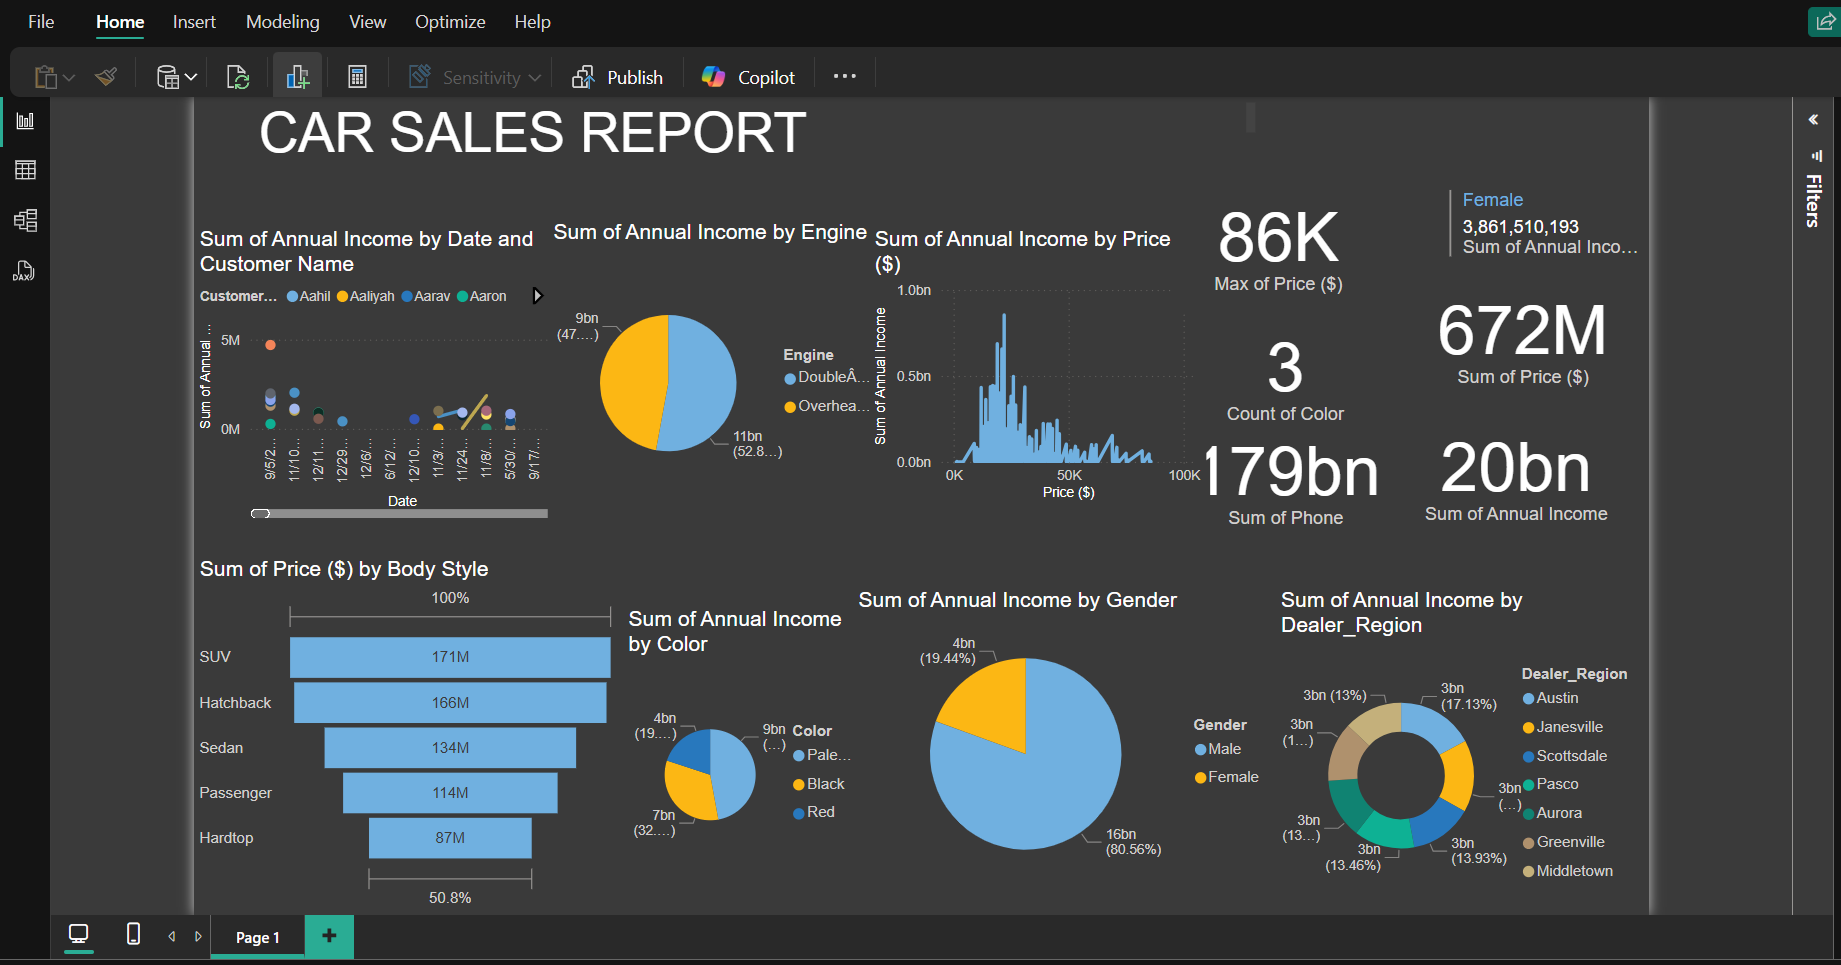

What the dashboard file says about the page in this screenshot:
{"tool":"powerbi","page":{"name":"Page 1","canvas":[1280,720],"ordinal":0},"visuals":[{"type":"donutChart","fields":{"Category":["new car dataseet.Dealer_Region"],"Y":["new car dataseet.Annual Income"]},"box":[950.9,431.9,328.8,288.3],"z":0},{"type":"funnel","fields":{"Category":["new car dataseet.Body Style"],"Y":["new car dataseet.Price ($)"]},"box":[0,404.9,376.7,315.3],"z":1000},{"type":"pieChart","fields":{"Category":["new car dataseet.Gender"],"Y":["new car dataseet.Annual Income"]},"box":[579.1,431.9,371.8,271.2],"z":2000},{"type":"lineChart","fields":{"Series":["new car dataseet.Customer Name"],"Category":["new car dataseet.Date"],"Y":["new car dataseet.Annual Income"]},"box":[0,114.1,321.5,261.4],"z":3000},{"type":"card","fields":{"Values":["new car dataseet.Annual Income"]},"box":[1047,253.9,233.3,150.9],"z":4000},{"type":"card","fields":{"Values":["new car dataseet.Price ($)"]},"box":[1059.4,145.5,220.9,127.6],"z":5000},{"type":"pieChart","fields":{"Category":["new car dataseet.Color"],"Y":["new car dataseet.Annual Income"]},"box":[376.7,449.1,217.2,254],"z":6000},{"type":"pieChart","fields":{"Category":["new car dataseet.Engine"],"Y":["new car dataseet.Annual Income"]},"box":[311.7,108,299.4,267.5],"z":7000},{"type":"multiRowCard","fields":{"Values":["new car dataseet.Annual Income","new car dataseet.Gender"]},"box":[1099.4,77.3,180.4,79.8],"z":8000},{"type":"card","fields":{"Values":["new car dataseet.Phone"]},"box":[852.8,273.6,214.7,117.8],"z":9000},{"type":"card","fields":{"Values":["new car dataseet.Color"]},"box":[862.6,189,196.3,105.5],"z":10000},{"type":"lineChart","fields":{"Category":["new car dataseet.Price ($)"],"Y":["new car dataseet.Annual Income"]},"box":[593.9,114.1,296.9,245.4],"z":11000},{"type":"card","fields":{"Values":["new car dataseet.Price ($)"]},"box":[862.6,66.3,184.1,122.7],"z":12000},{"type":"textbox","box":[0,0,938.7,66.3],"z":13000}]}

Visuals, with their boxes on the page's 1280x720 design canvas (x1, y1, x2, y2). These are canvas units, not pixel positions in the 1841x965 screenshot, which may show the page scaled, cropped or inside an application window:
donutChart - new car dataseet.Dealer_Region x new car dataseet.Annual Income: rect(951, 432, 1280, 720)
funnel - new car dataseet.Body Style x new car dataseet.Price ($): rect(0, 405, 377, 720)
pieChart - new car dataseet.Gender x new car dataseet.Annual Income: rect(579, 432, 951, 703)
lineChart - new car dataseet.Customer Name x new car dataseet.Date: rect(0, 114, 322, 376)
card - new car dataseet.Annual Income: rect(1047, 254, 1280, 405)
card - new car dataseet.Price ($): rect(1059, 146, 1280, 273)
pieChart - new car dataseet.Color x new car dataseet.Annual Income: rect(377, 449, 594, 703)
pieChart - new car dataseet.Engine x new car dataseet.Annual Income: rect(312, 108, 611, 376)
multiRowCard - new car dataseet.Annual Income x new car dataseet.Gender: rect(1099, 77, 1280, 157)
card - new car dataseet.Phone: rect(853, 274, 1068, 391)
card - new car dataseet.Color: rect(863, 189, 1059, 294)
lineChart - new car dataseet.Price ($) x new car dataseet.Annual Income: rect(594, 114, 891, 360)
card - new car dataseet.Price ($): rect(863, 66, 1047, 189)
textbox: rect(0, 0, 939, 66)
